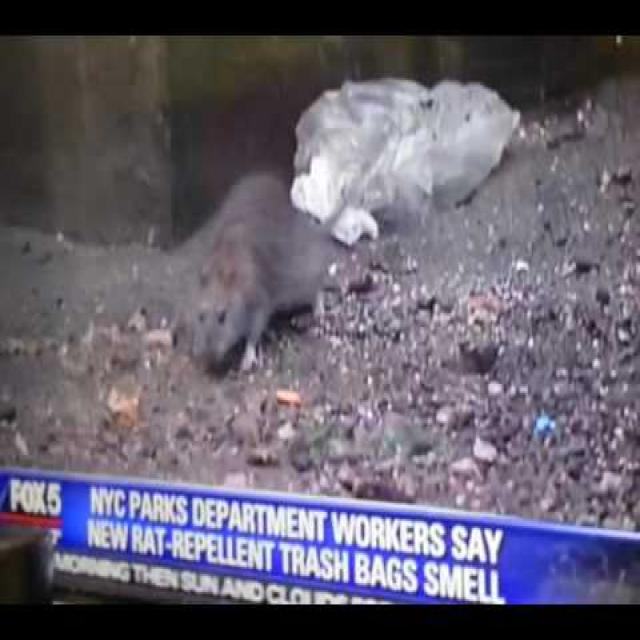rat: (172, 195, 372, 389)
